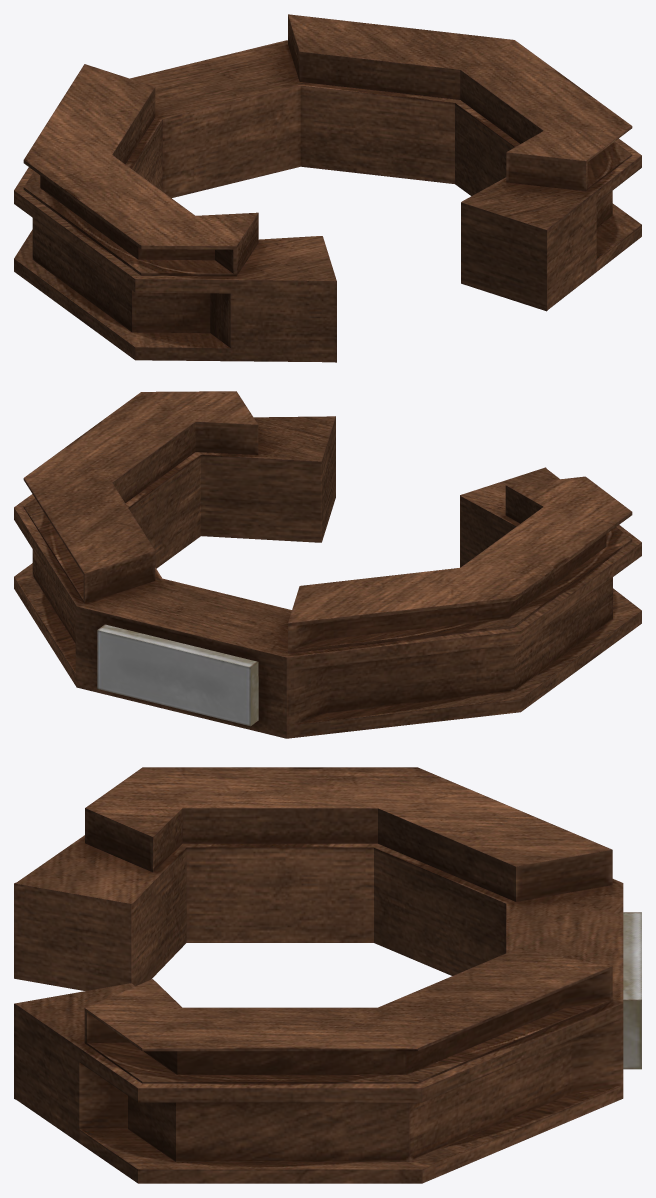
Rendered from Desk_BaseColor.glb.
The picture shows the model from 3 angles, top to bottom: view 1: azimuth 30°, elevation 25°; view 2: azimuth 150°, elevation 25°; view 3: azimuth 270°, elevation 25°; orthographic projection. The views are drawn at different scales.
Parts seen in each view (by area): view 1: Desk_Alt_Low; view 2: Desk_Alt_Low; view 3: Desk_Alt_Low.
Part boxes in pixels (x1,y1,x2,y2): Desk_Alt_Low: (14, 14, 641, 362); Desk_Alt_Low: (14, 391, 641, 738); Desk_Alt_Low: (14, 767, 641, 1183).
Size of the model in its own units: 22.71 by 4.76 by 20.77.
Materials: 1 (1 with a texture image).
